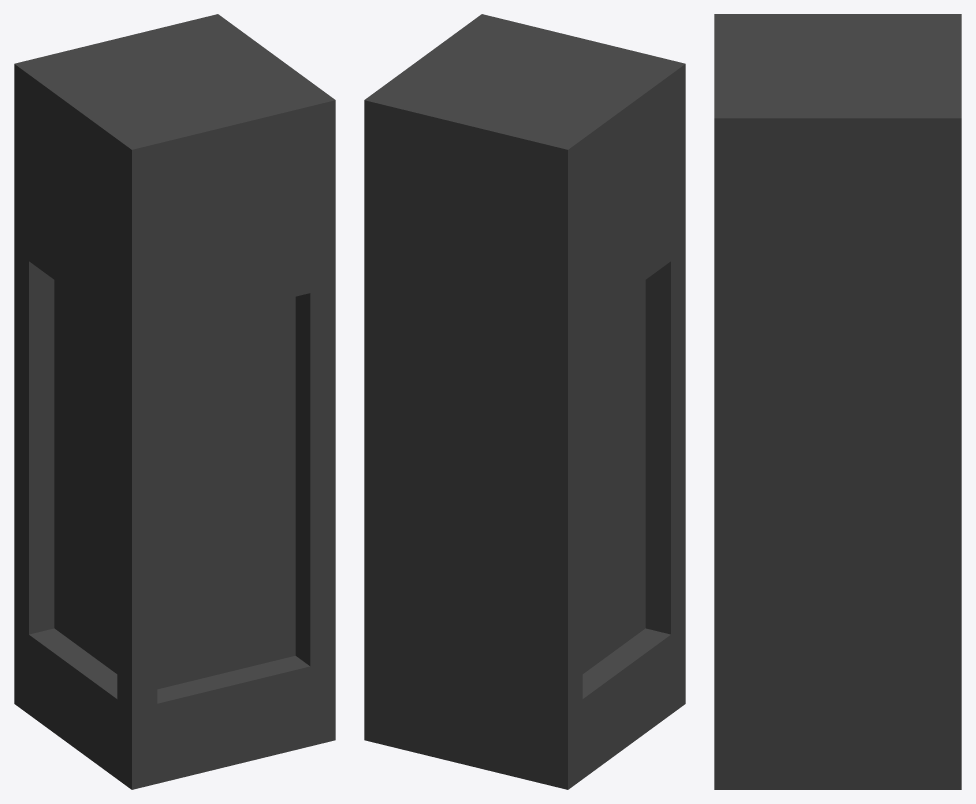
File: AllSimpleModel-10-MainCube.obj
3 renders of one model, left to right at view 1: azimuth 30°, elevation 25°; view 2: azimuth 150°, elevation 25°; view 3: azimuth 270°, elevation 25°, orthographic. The views are drawn at different scales.
Parts seen in each view (by area): view 1: MainCube; view 2: MainCube; view 3: MainCube.
Part boxes in pixels (x1,y1,x2,y2): MainCube: (14,14,335,789); MainCube: (364,14,685,789); MainCube: (714,14,961,789).
Bounding box in the file's own units: 0.8 × 2.4 × 0.8.
Materials: 1 (1 with a texture image).
